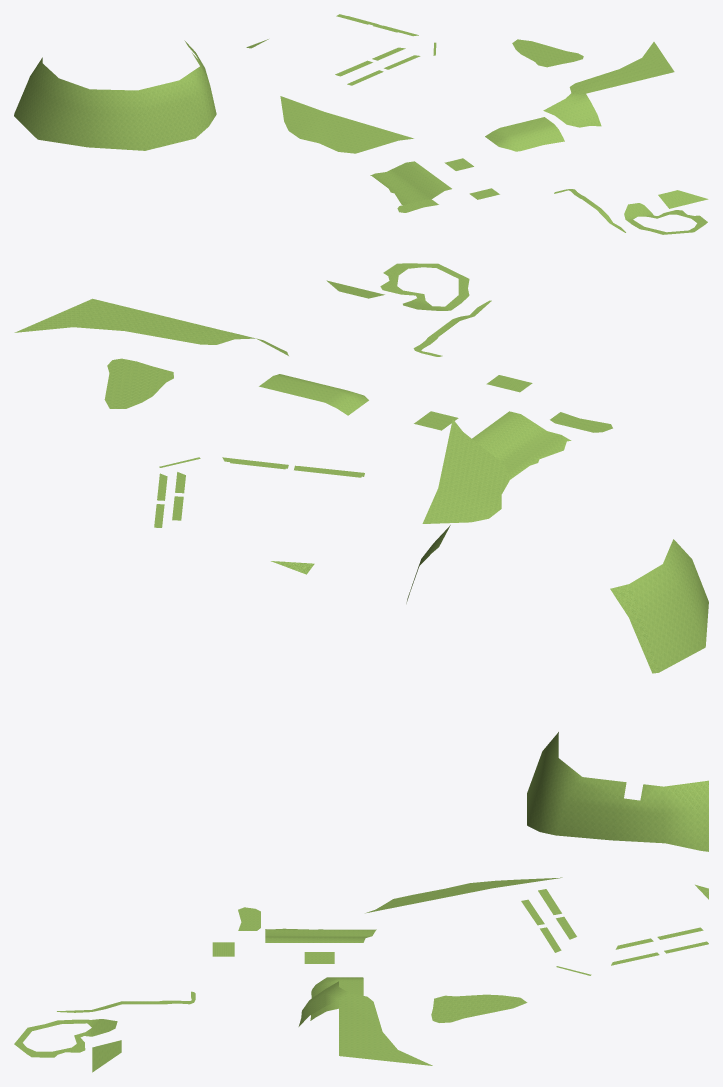
File: kd_stage_1363c5_9_3_bounded.glb
3 views of the same model, one above another, from view 1: azimuth 30°, elevation 25°; view 2: azimuth 150°, elevation 25°; view 3: azimuth 270°, elevation 25° (orthographic). The views are drawn at different scales.
Parts seen in each view (by area): view 1: kd_stage_1363c5_9_3_bounded; view 2: kd_stage_1363c5_9_3_bounded; view 3: kd_stage_1363c5_9_3_bounded.
Part boxes in pixels (x1,y1,x2,y2): kd_stage_1363c5_9_3_bounded: (14, 14, 708, 234); kd_stage_1363c5_9_3_bounded: (14, 263, 708, 673); kd_stage_1363c5_9_3_bounded: (14, 732, 708, 1072).
Bounding box in the file's own units: 188 × 24.95 × 162.
1 material, 1 textured.
